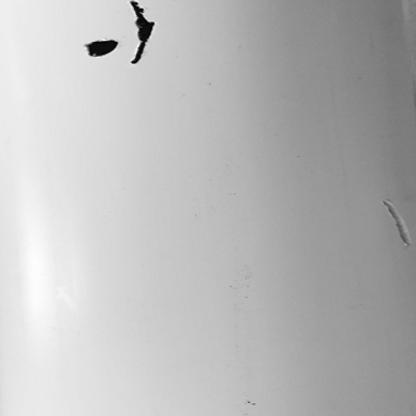kongdong: (127, 1, 158, 64), (84, 39, 121, 59)
sunshang: (378, 197, 414, 245)
